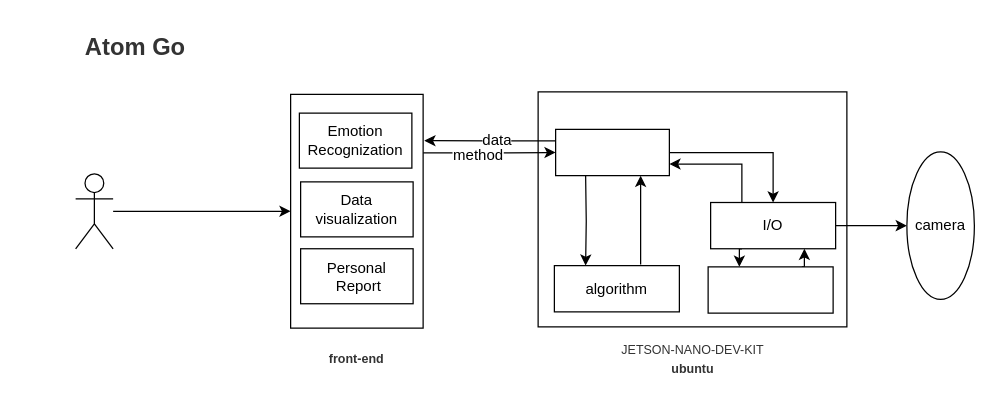
Some shapes in this 996 by 406 pixel diagram are drawn without their labels. Here are the shapes that lost their labels. From the top down, the centre of each, then its label:
At (x=611, y=152): "http server".
At (x=93, y=210): "Actor".
At (x=770, y=289): "database".
